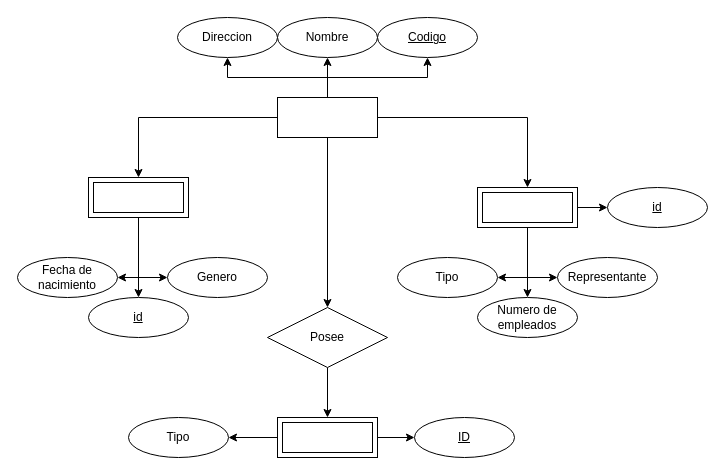
This 725x475 diagram has some shape labels left out. Each missing label, with the centre of its shape:
"Banco" goes at (x=327, y=117).
"Empresa" goes at (x=527, y=207).
"Entity" goes at (x=327, y=437).
"Persona" goes at (x=138, y=197).
